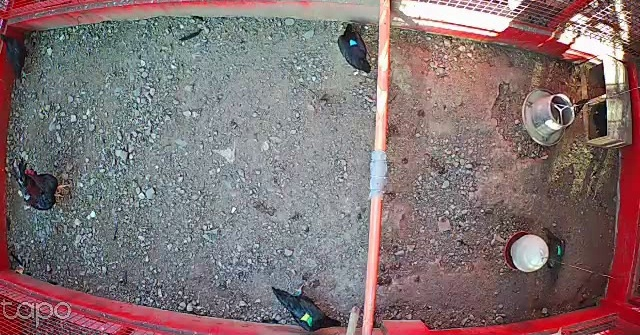Chicken: (268, 280, 346, 331), (534, 220, 569, 285), (336, 22, 376, 75), (0, 32, 30, 85)
Rooster: (10, 155, 70, 209)
Saddle_Color_Blue: (350, 40, 357, 46)
Saddle_Color_YellowGreen: (299, 313, 316, 327)
